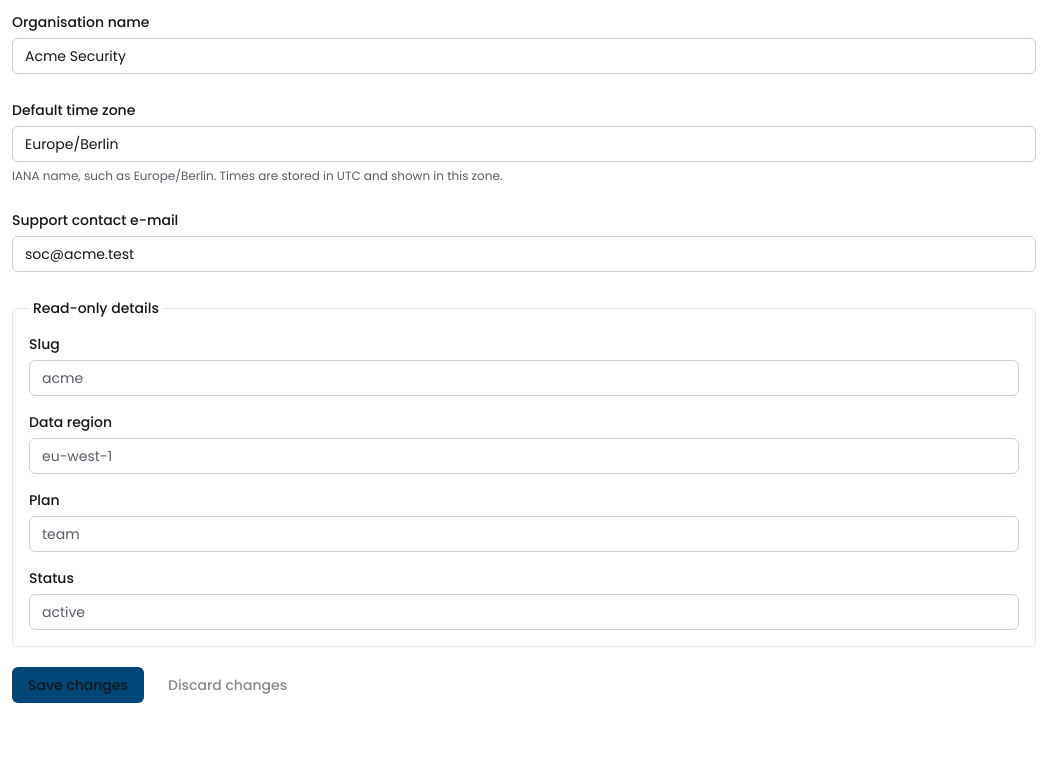
Test: OrgSettingsForm › tells the user to reload on a stale ETag and does not overwrite anything
The image size is (1048, 778).
Replace the text in the field labelled "Organisation name" with "Late edit" at (524, 56), box x1=12 y1=38 x2=1036 y2=74
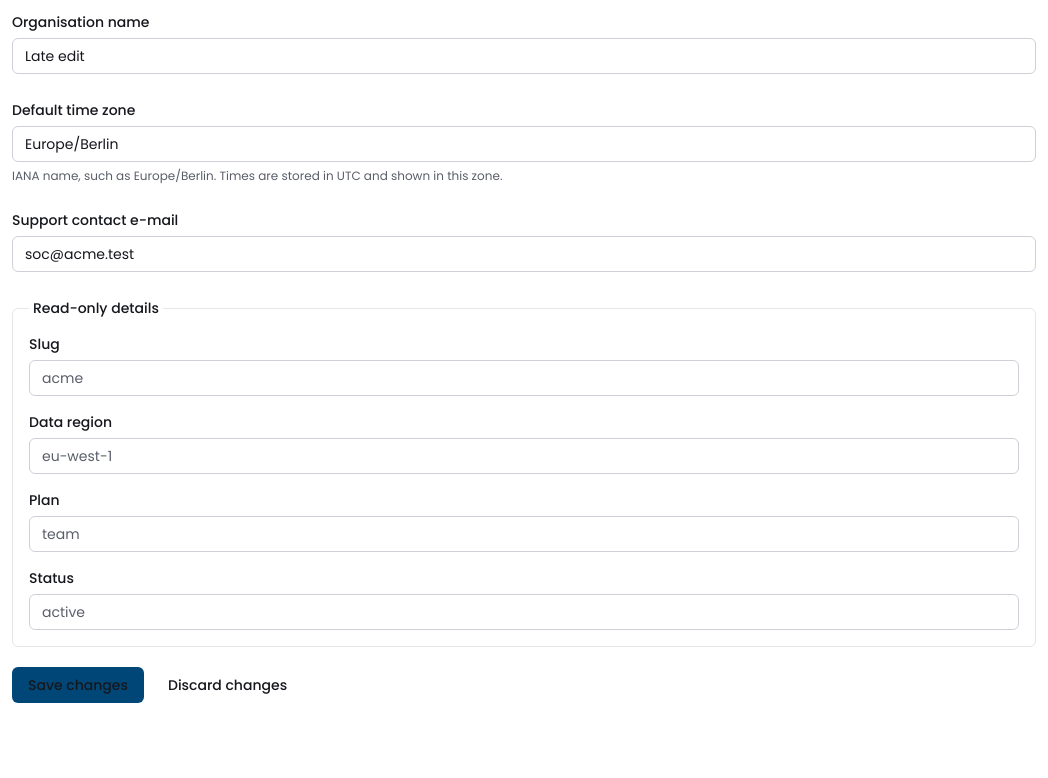
Click the button "Save changes".
click(78, 685)  # box x1=12 y1=667 x2=144 y2=703
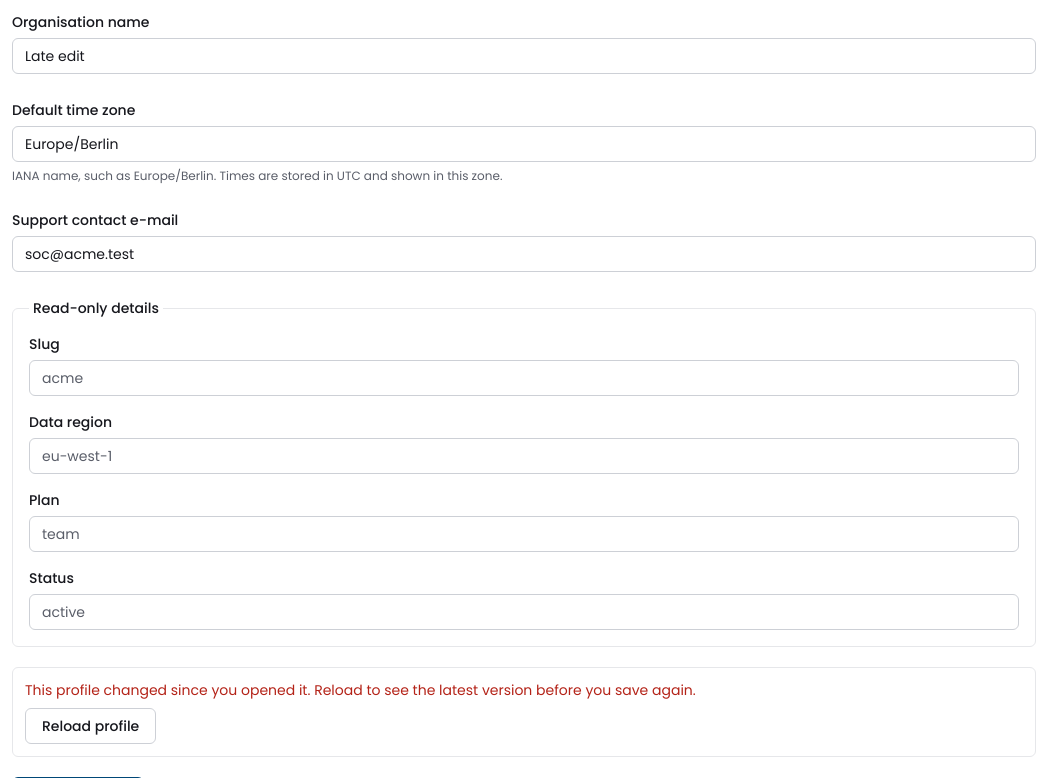
Result: the text "changed since you opened it" is shown at x1=25 y1=680 x2=696 y2=700
Result: the button "Reload profile" is shown at x1=25 y1=708 x2=156 y2=744
